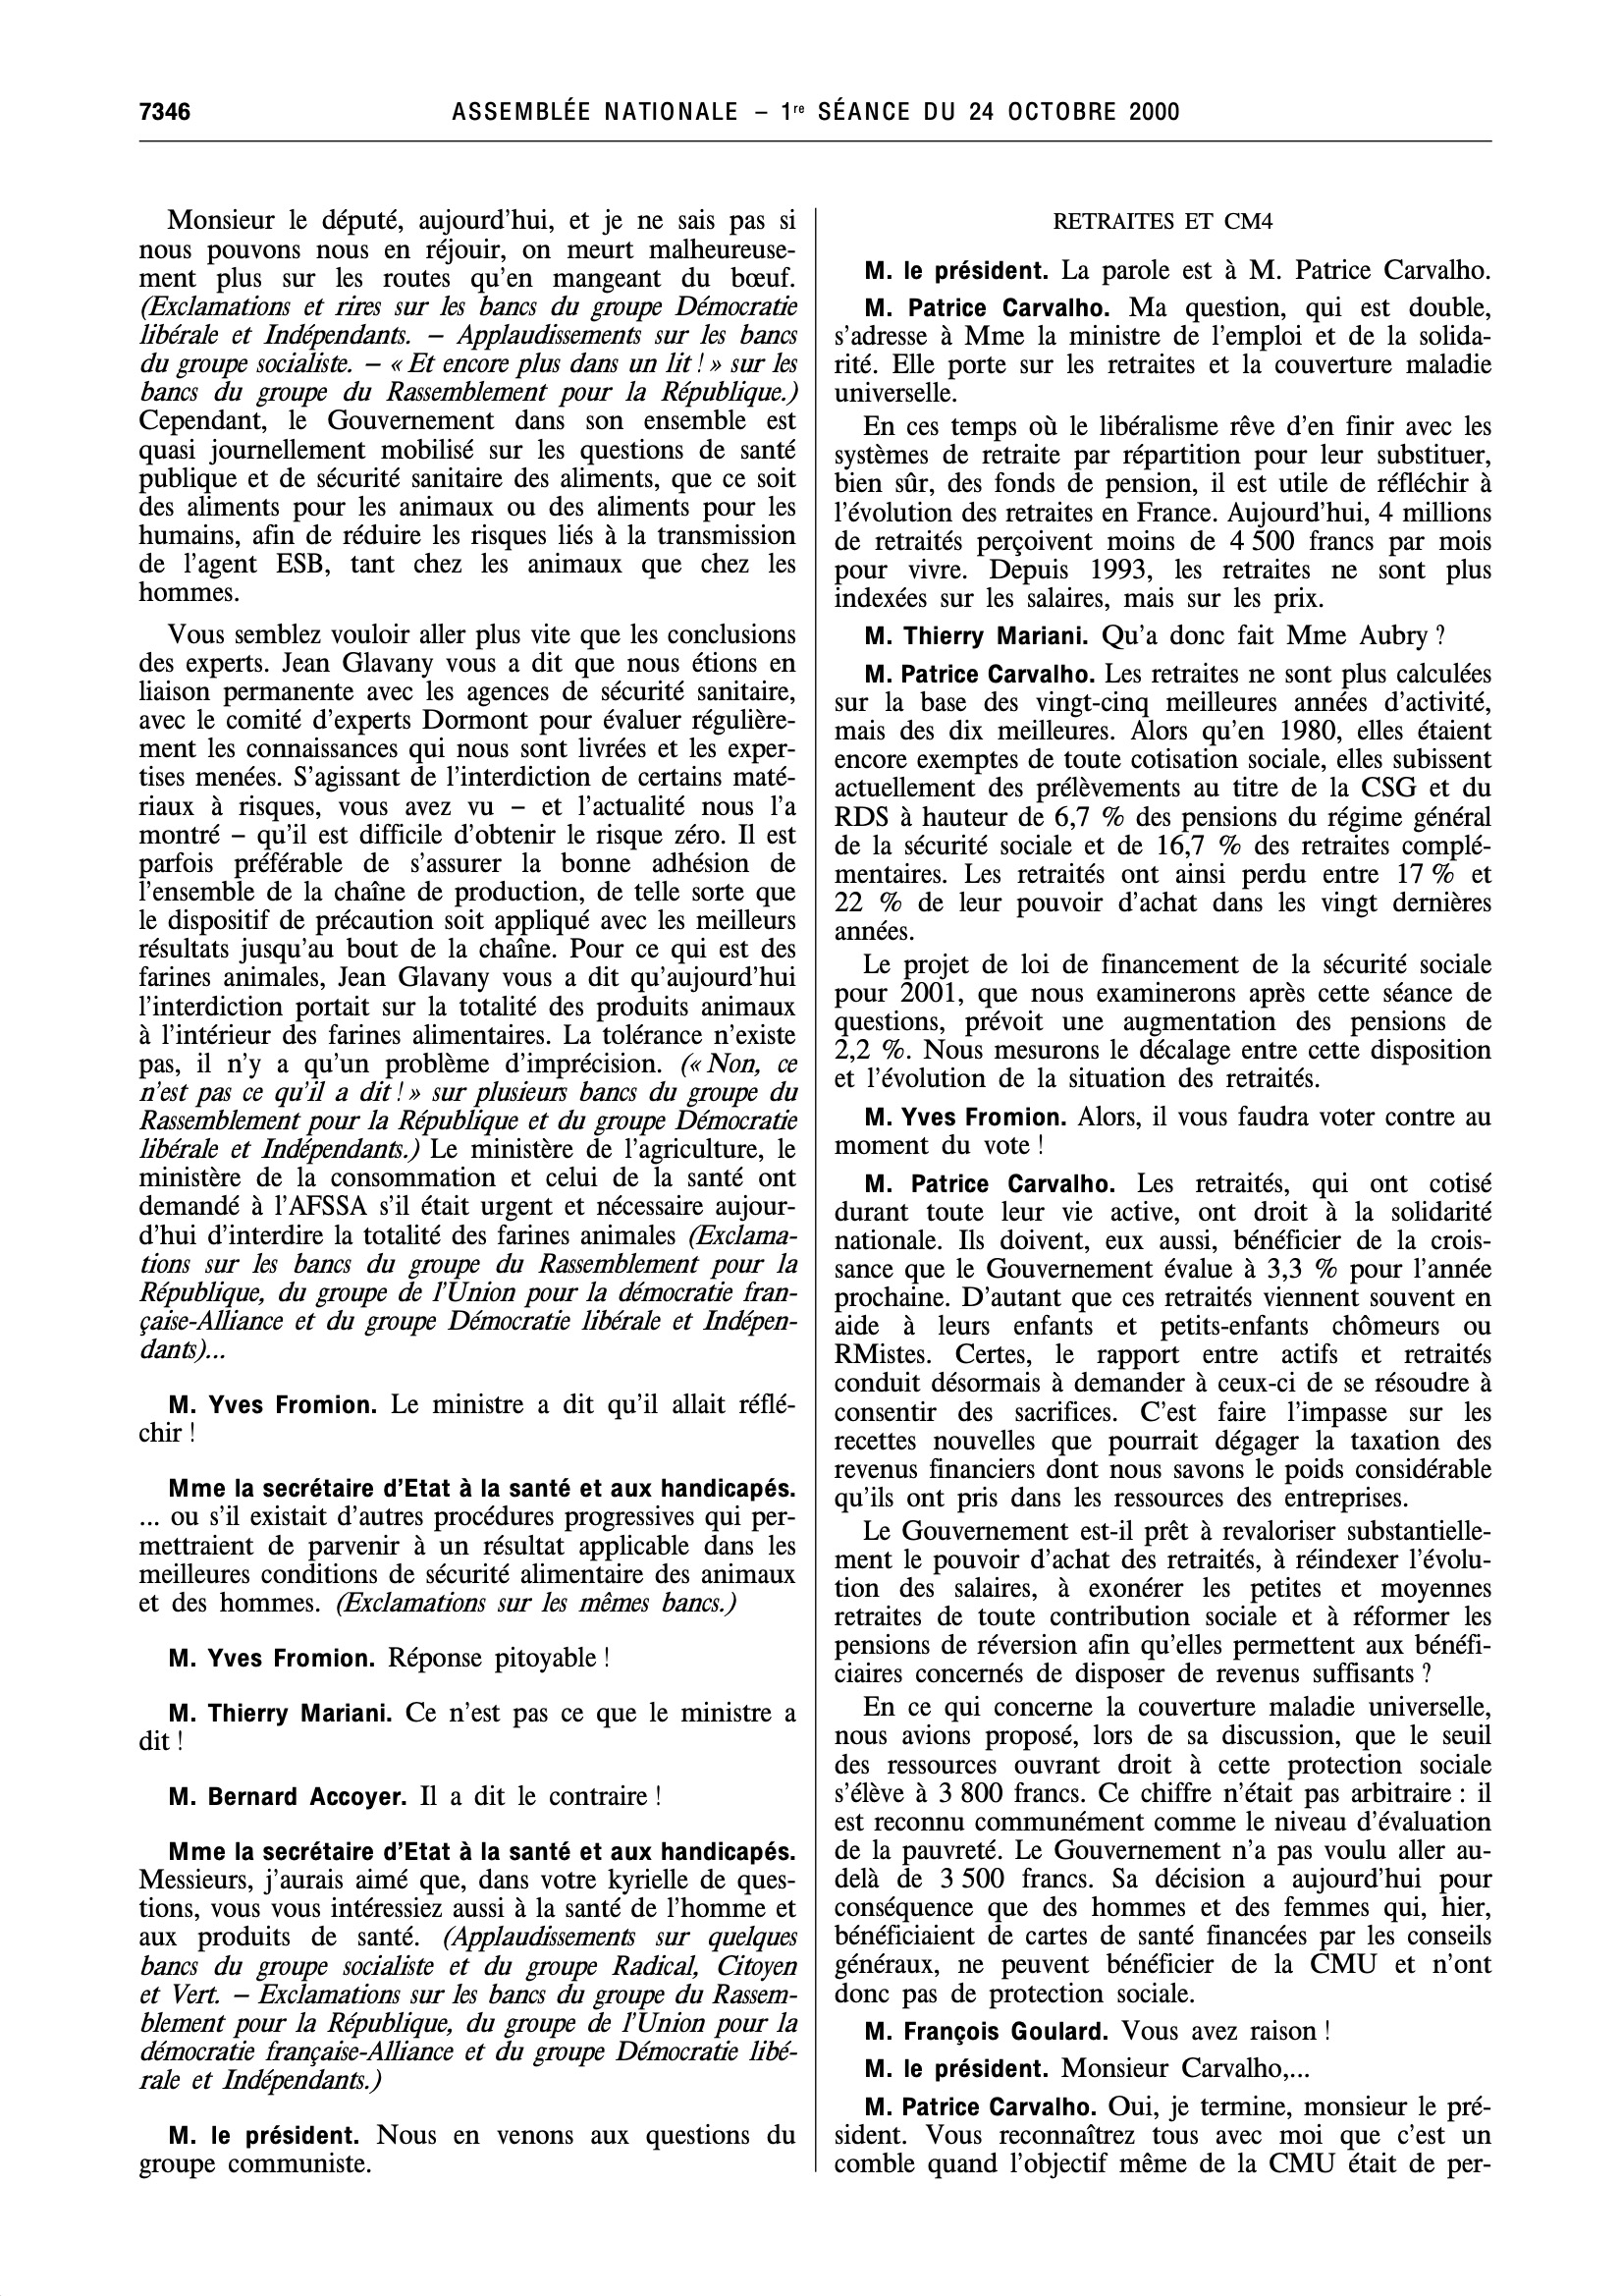MainZone-Head: (1044, 198, 1281, 242)
MainZone-P: (131, 614, 806, 1367), (132, 196, 807, 608), (825, 1168, 1498, 1511), (826, 1686, 1494, 2011), (828, 657, 1508, 946), (130, 1833, 803, 2101), (828, 410, 1498, 611), (826, 1511, 1494, 1686), (130, 1470, 803, 1624), (825, 951, 1493, 1093), (828, 292, 1498, 409), (828, 2091, 1498, 2185), (130, 2115, 802, 2189), (128, 1693, 803, 1764), (130, 1384, 802, 1453), (829, 1099, 1498, 1165), (845, 248, 1498, 290), (137, 1774, 701, 1821), (836, 617, 1466, 652), (138, 1636, 623, 1680), (855, 2011, 1338, 2046), (854, 2054, 1321, 2090)
StampZone: (442, 85, 1188, 137)
TitlePageZone: (132, 90, 200, 136)
